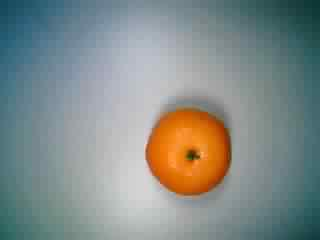orange: (140, 99, 238, 197)
